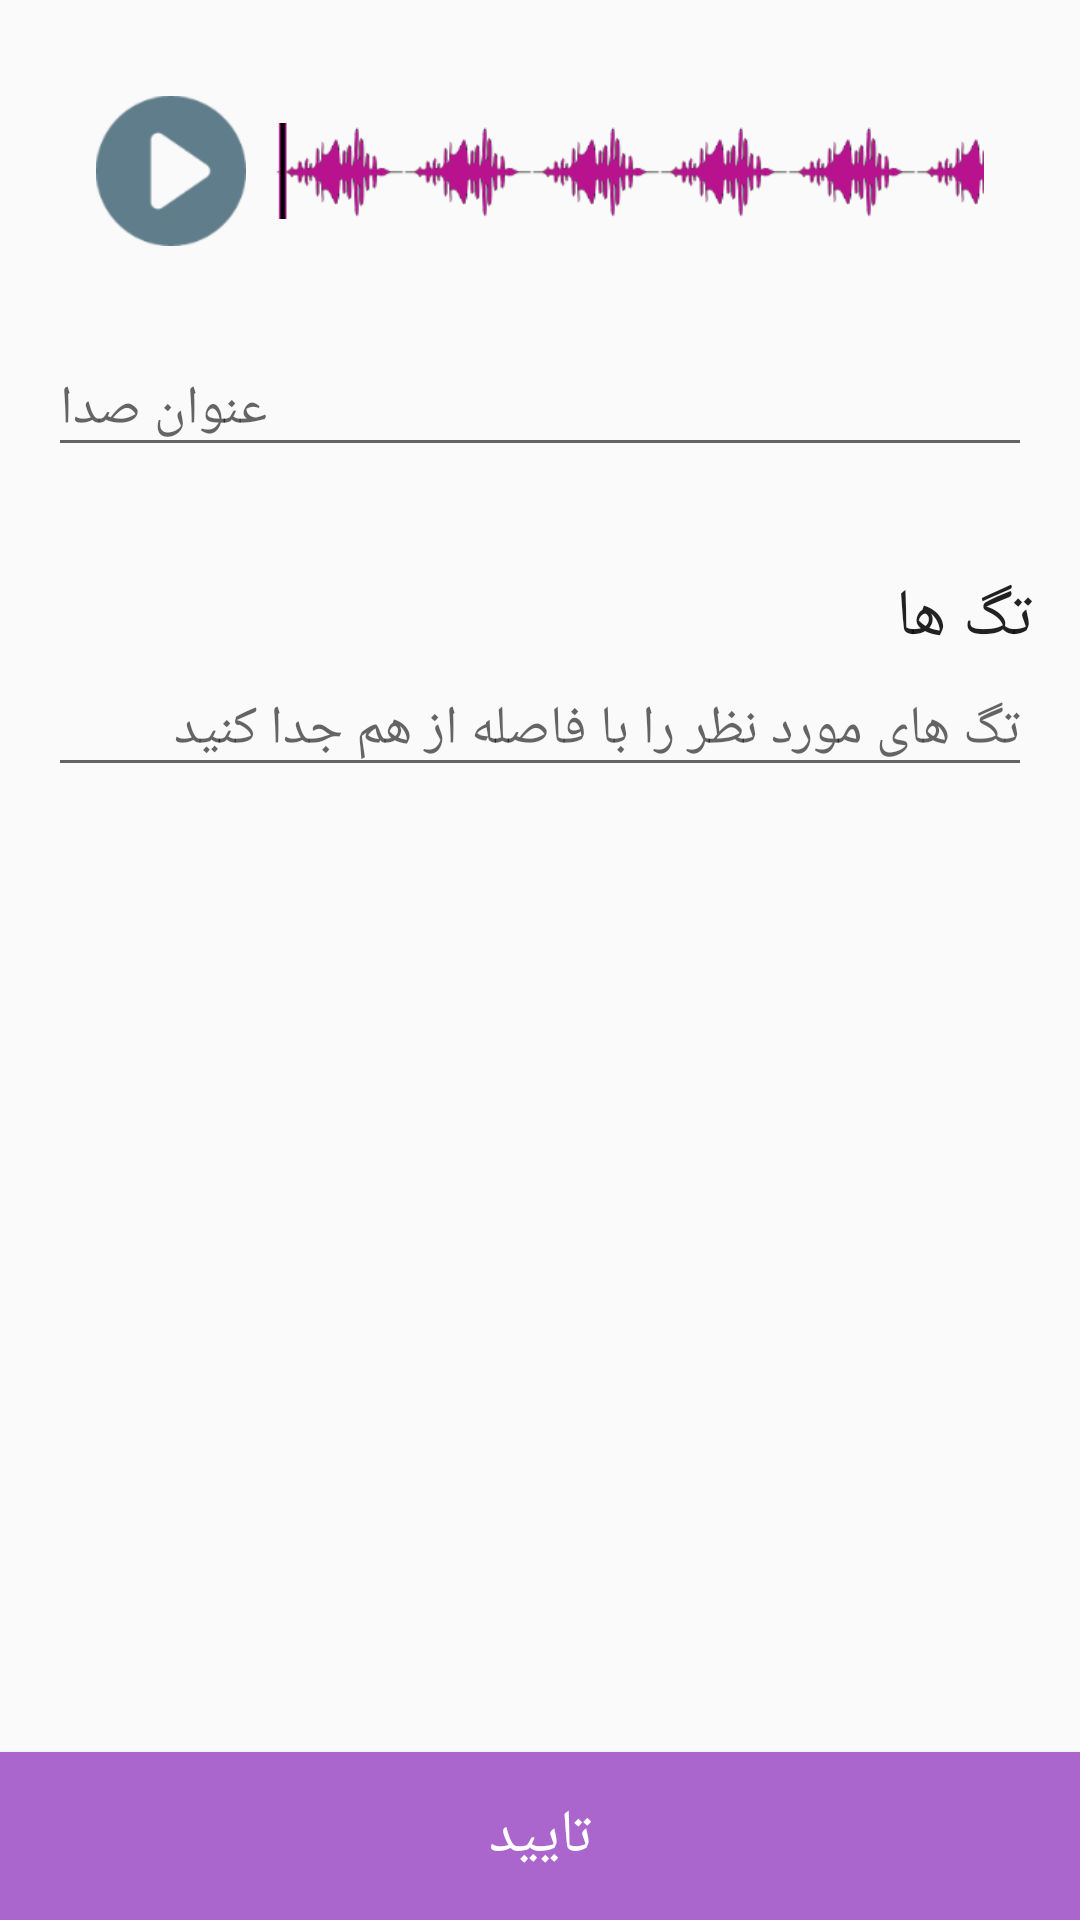

Icon bounding boxes for this 1080 x 1920 phone screenshot, format (x1, y1, x2, y2):
play: (96, 96, 246, 246)
